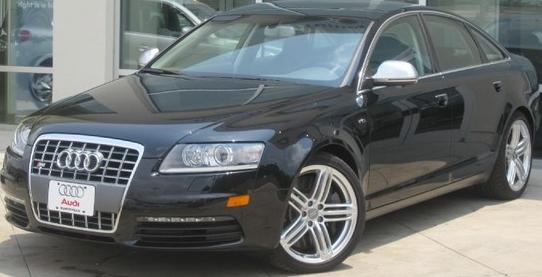front_view: (0, 112, 279, 253)
headlight: (150, 138, 268, 179)
side_glass: (354, 11, 511, 90)
